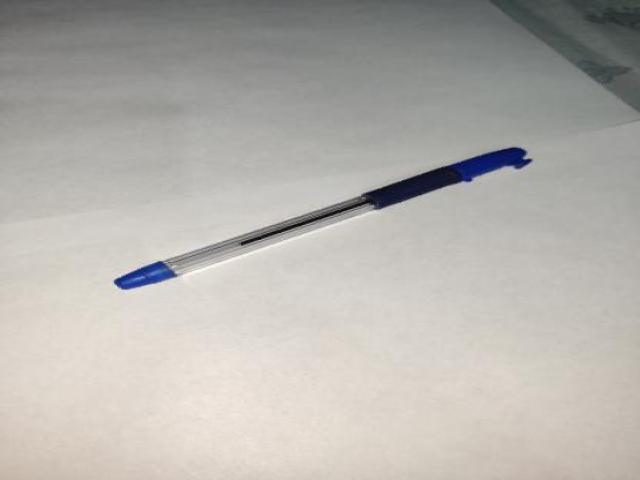PEN: (107, 123, 547, 302)
